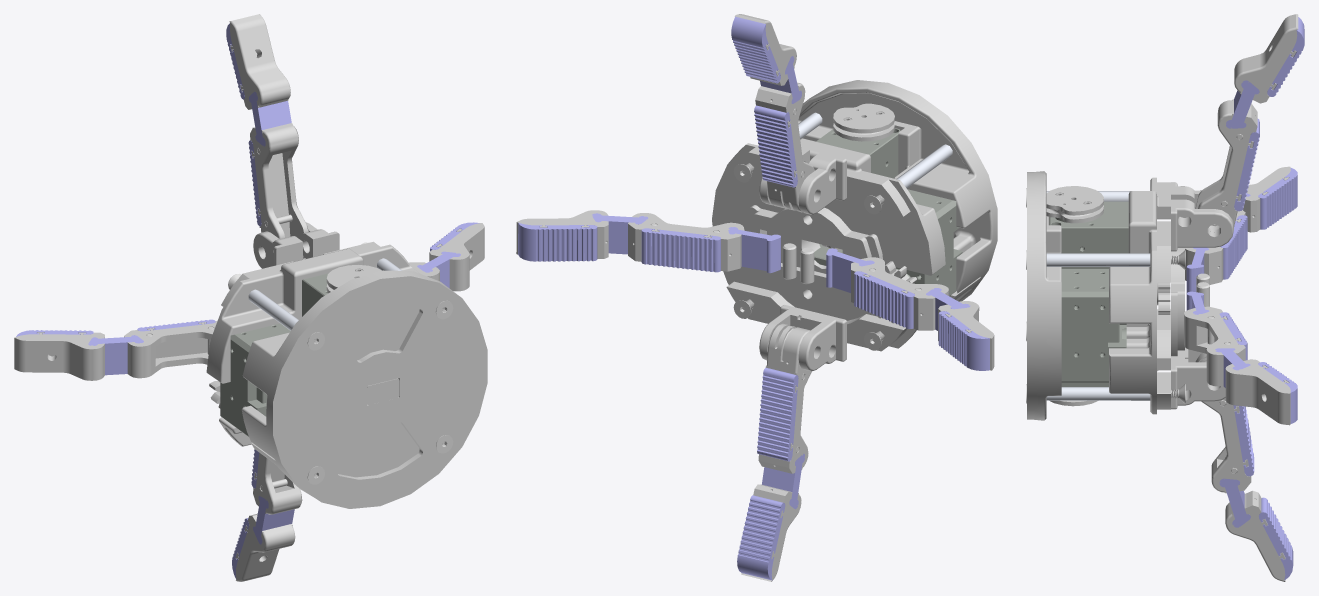
Rendered from yale.glb.
The picture shows the model from 3 angles, left to right: view 1: azimuth 30°, elevation 25°; view 2: azimuth 150°, elevation 25°; view 3: azimuth 270°, elevation 25°; orthographic projection.
Parts seen in each view (by area): view 1: bottom_brace_insertv2, q_pf (×6), q_ffff (×4), bottom_no_bridge, mid_clamp, dynamixel XM-430 (×2), pivot_base, 93330A483 8-32 L2 standoff, horn2, bottom_reroute; view 2: q_ffff (×11), q_pf (×9), mid_clamp, bottom_no_bridge, pivot_base (×2), top_inner, dynamixel XM-430 (×2), horn2, bottom_brace_insertv2, 93330A483 8-32 L2 standoff; view 3: q_pf (×10), q_ffff (×11), mid_clamp, dynamixel XM-430 (×2), bottom_no_bridge, pivot_base (×2), 93330A483 8-32 L2 standoff (×2), horn2, bottom_brace_insertv2, top_inner, gear_motor.
Part boxes in pixels (x1,y1,x2,y2): bottom_brace_insertv2: [269, 273, 487, 508]; q_pf (×6): [229, 14, 308, 581]; q_ffff (×4): [14, 223, 484, 380]; bottom_no_bridge: [242, 270, 456, 495]; mid_clamp: [206, 241, 420, 446]; dynamixel XM-430 (×2): [220, 273, 328, 436]; pivot_base: [253, 222, 339, 268]; 93330A483 8-32 L2 standoff: [248, 289, 298, 330]; horn2: [326, 265, 381, 293]; bottom_reroute: [367, 378, 399, 404]; q_ffff (×11): [516, 210, 994, 370]; q_pf (×9): [731, 14, 814, 581]; mid_clamp: [712, 138, 945, 351]; bottom_no_bridge: [798, 82, 994, 301]; pivot_base (×2): [759, 148, 846, 371]; top_inner: [743, 205, 882, 306]; dynamixel XM-430 (×2): [816, 128, 962, 296]; horn2: [833, 103, 894, 141]; bottom_brace_insertv2: [825, 80, 997, 295]; 93330A483 8-32 L2 standoff: [896, 144, 952, 188]; q_pf (×10): [1195, 14, 1304, 581]; q_ffff (×11): [1184, 166, 1297, 425]; mid_clamp: [1109, 177, 1170, 414]; dynamixel XM-430 (×2): [1049, 201, 1128, 382]; bottom_no_bridge: [1033, 171, 1061, 420]; pivot_base (×2): [1171, 182, 1233, 409]; 93330A483 8-32 L2 standoff (×2): [1046, 253, 1150, 400]; horn2: [1046, 186, 1103, 223]; bottom_brace_insertv2: [1027, 172, 1033, 419]; top_inner: [1171, 247, 1184, 356]; gear_motor: [1157, 282, 1170, 314].
Size of the model in its own units: 0.248 by 0.2816 by 0.1281.
